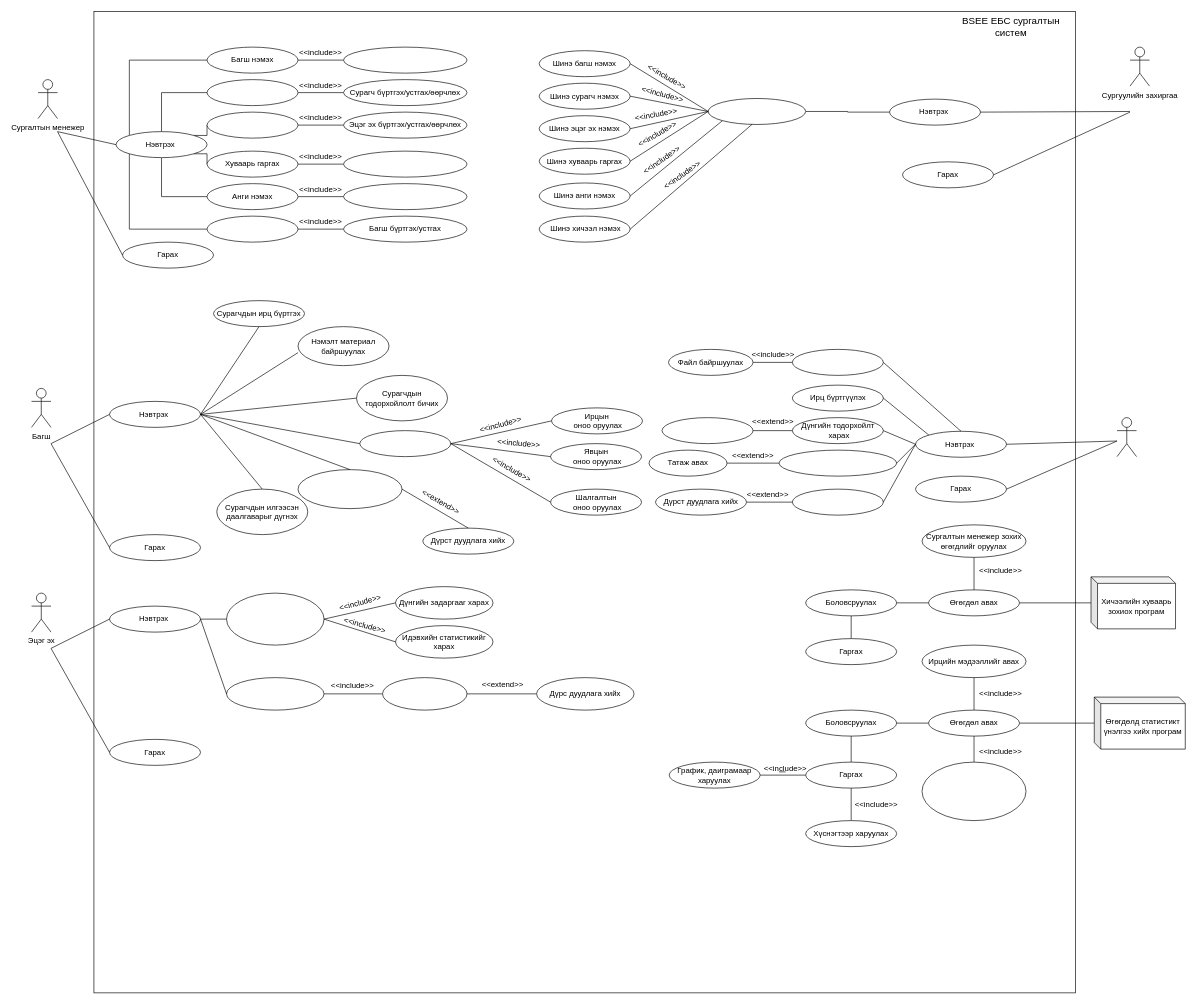
This 1197x1004 diagram has some shape labels left out. Each missing label, with the centre of its shape:
"Анги бүртгэх/ устгах/өөрчлөх" goes at pixel 405 196.
"Багш бүртгэх/устгах/өөрчлөх" goes at pixel 405 59.
"Багшид зурвас илгээх" goes at pixel 837 501.
"Багштай харилцах" goes at pixel 275 693.
"Даалгавар гүйцэтгэх" goes at pixel 837 362.
"Даалгаврын гүйцэтгэл, илгээсэн хугацааны мэдээллийг авах" goes at pixel 973 791.
"Зурвас" goes at pixel 424 693.
"Зөвшөөрөл/мэдэгдэл өгөх" goes at pixel 757 111.
"Нэмэлт материалтай танилцах" goes at pixel 837 462.
"Сурагч" goes at pixel 1126 437.
"Сурагч нэмэх" goes at pixel 252 92.
"Сурагчдын дүн оруулах" goes at pixel 405 443.
"Сурагчид, эцэг эхэд зурвас илгээх" goes at pixel 349 489.
"Хамааралтай сурагчийн сурах үйл явцтай танилцах" goes at pixel 275 618.
"Хичээл нэмэх" goes at pixel 252 228.
"Хуваарь өөрчлөх/ устгах" goes at pixel 405 163.
"Хэвлэх" goes at pixel 707 430.
"Эцэг эх нэмэх" goes at pixel 252 124.
